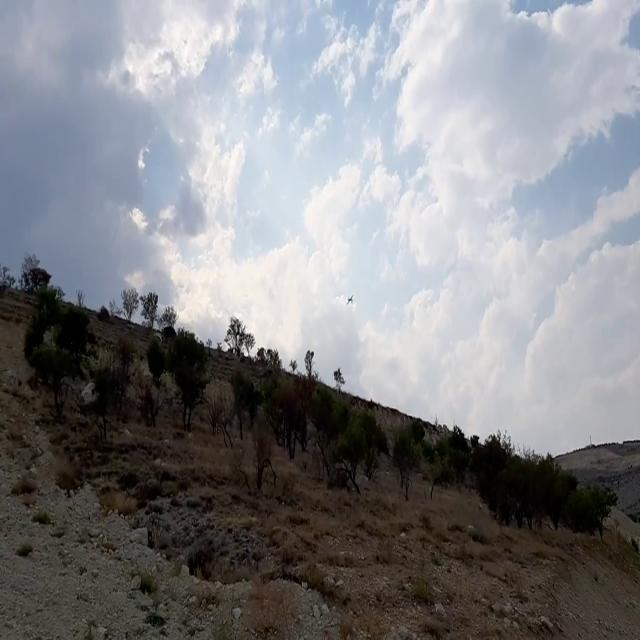iha: (347, 299, 353, 304)
